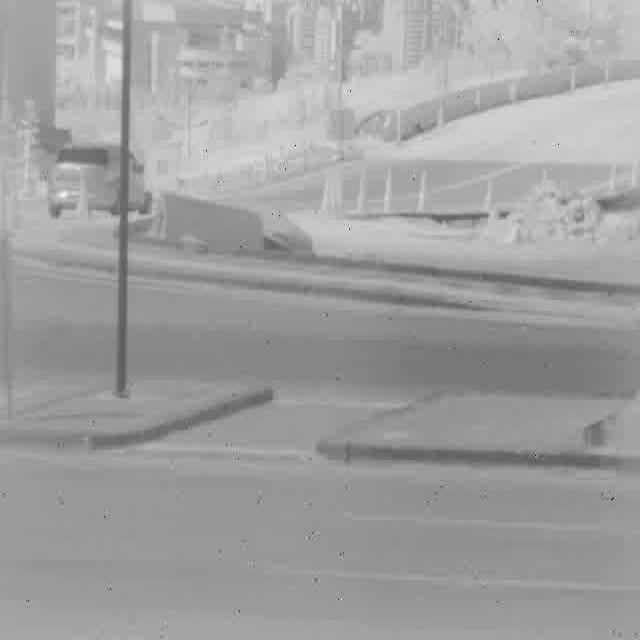Car: (47, 144, 147, 221)
